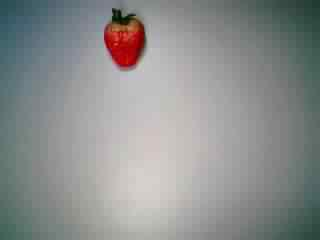strawberry: (92, 6, 160, 70)
